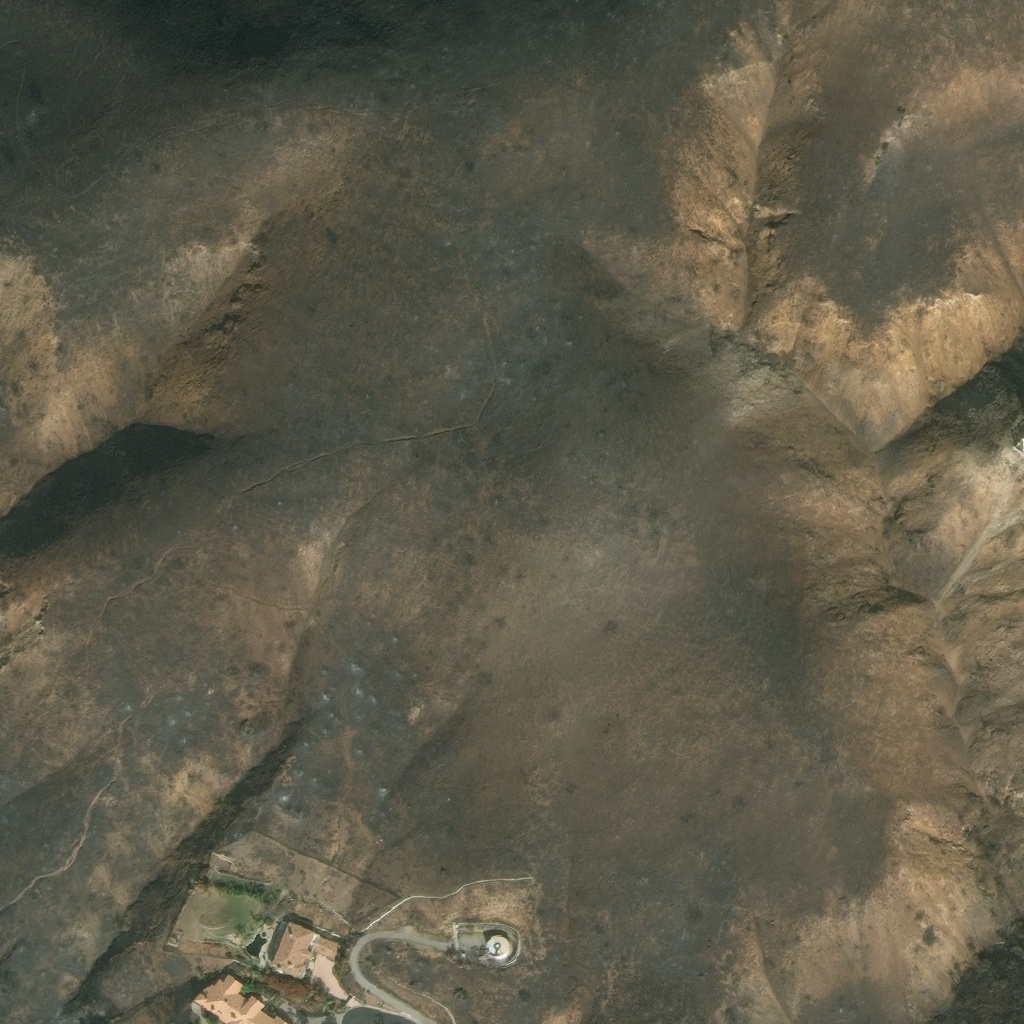0 no-damage: (193, 973, 289, 1023), (269, 921, 317, 979)
1 minor-damage: (484, 935, 511, 961)
3 destroyed: (166, 928, 181, 948)
